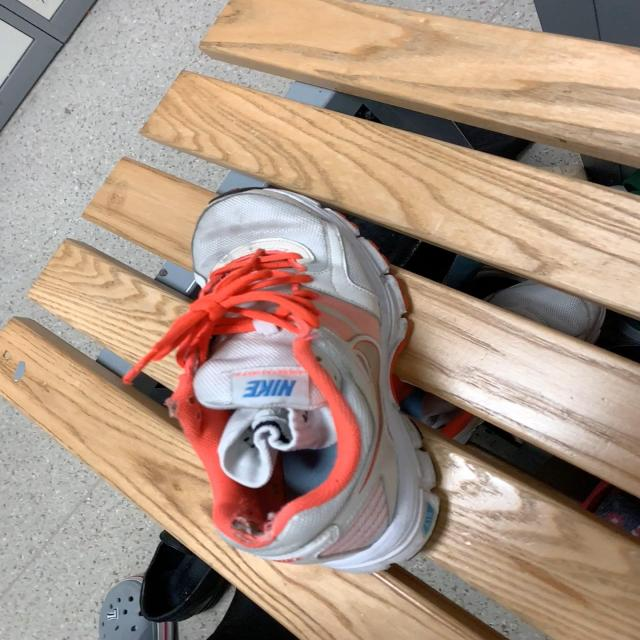shoe: (123, 185, 442, 574)
